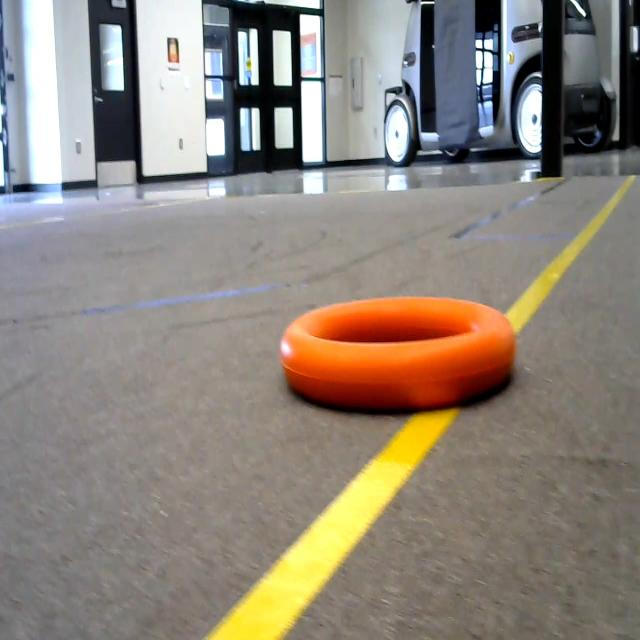note: (272, 280, 548, 441)
